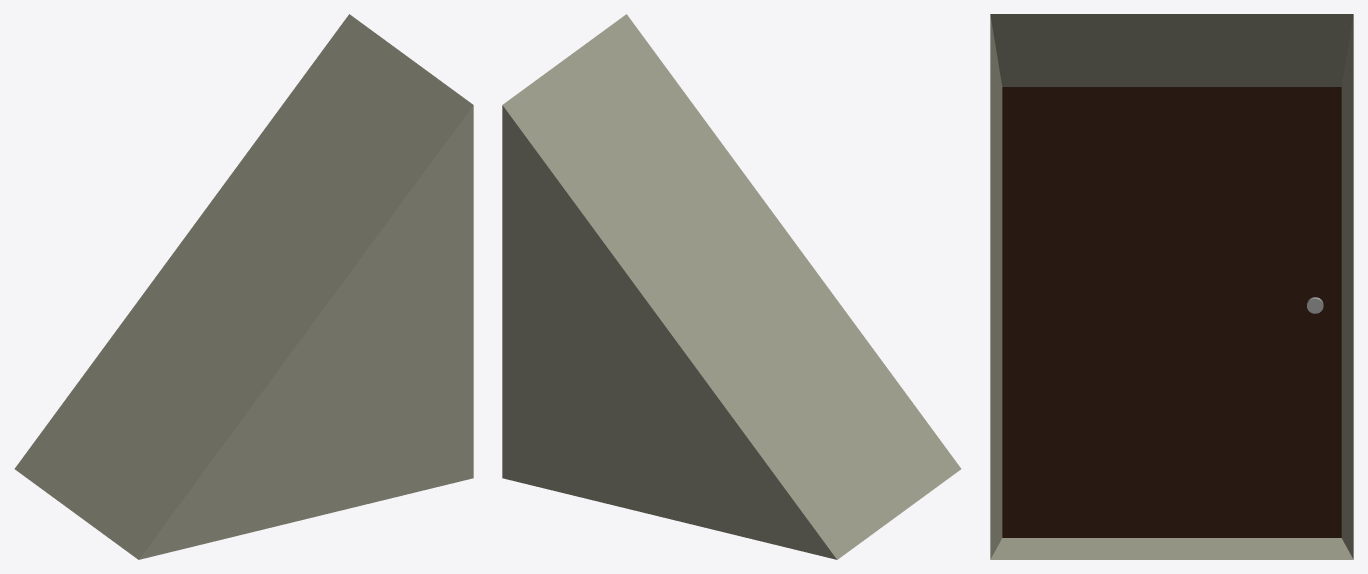
File: (Japan)RooftopDoorWIP.fbx
3 views of the same model, side by side, from view 1: azimuth 30°, elevation 25°; view 2: azimuth 150°, elevation 25°; view 3: azimuth 270°, elevation 25° (orthographic). The views are drawn at different scales.
Parts seen in each view (by area): view 1: Cube.001; view 2: Cube.001; view 3: Cube.001.
Boxes of the visible parts, left/top/right/bottom form: Cube.001: left=14, top=14, right=473, bottom=559; Cube.001: left=502, top=14, right=961, bottom=559; Cube.001: left=990, top=14, right=1353, bottom=559.
Bounding box in the file's own units: 395 × 421 × 254.
